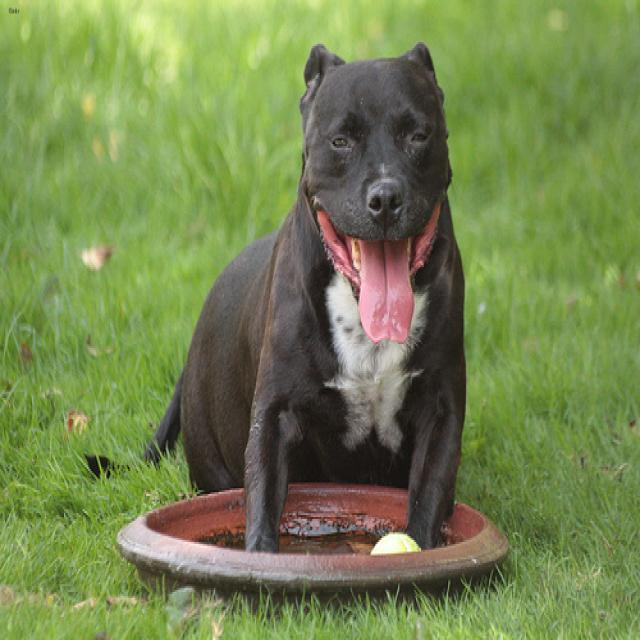dog-staffordshire_bull_terrier: (77, 29, 480, 571)
